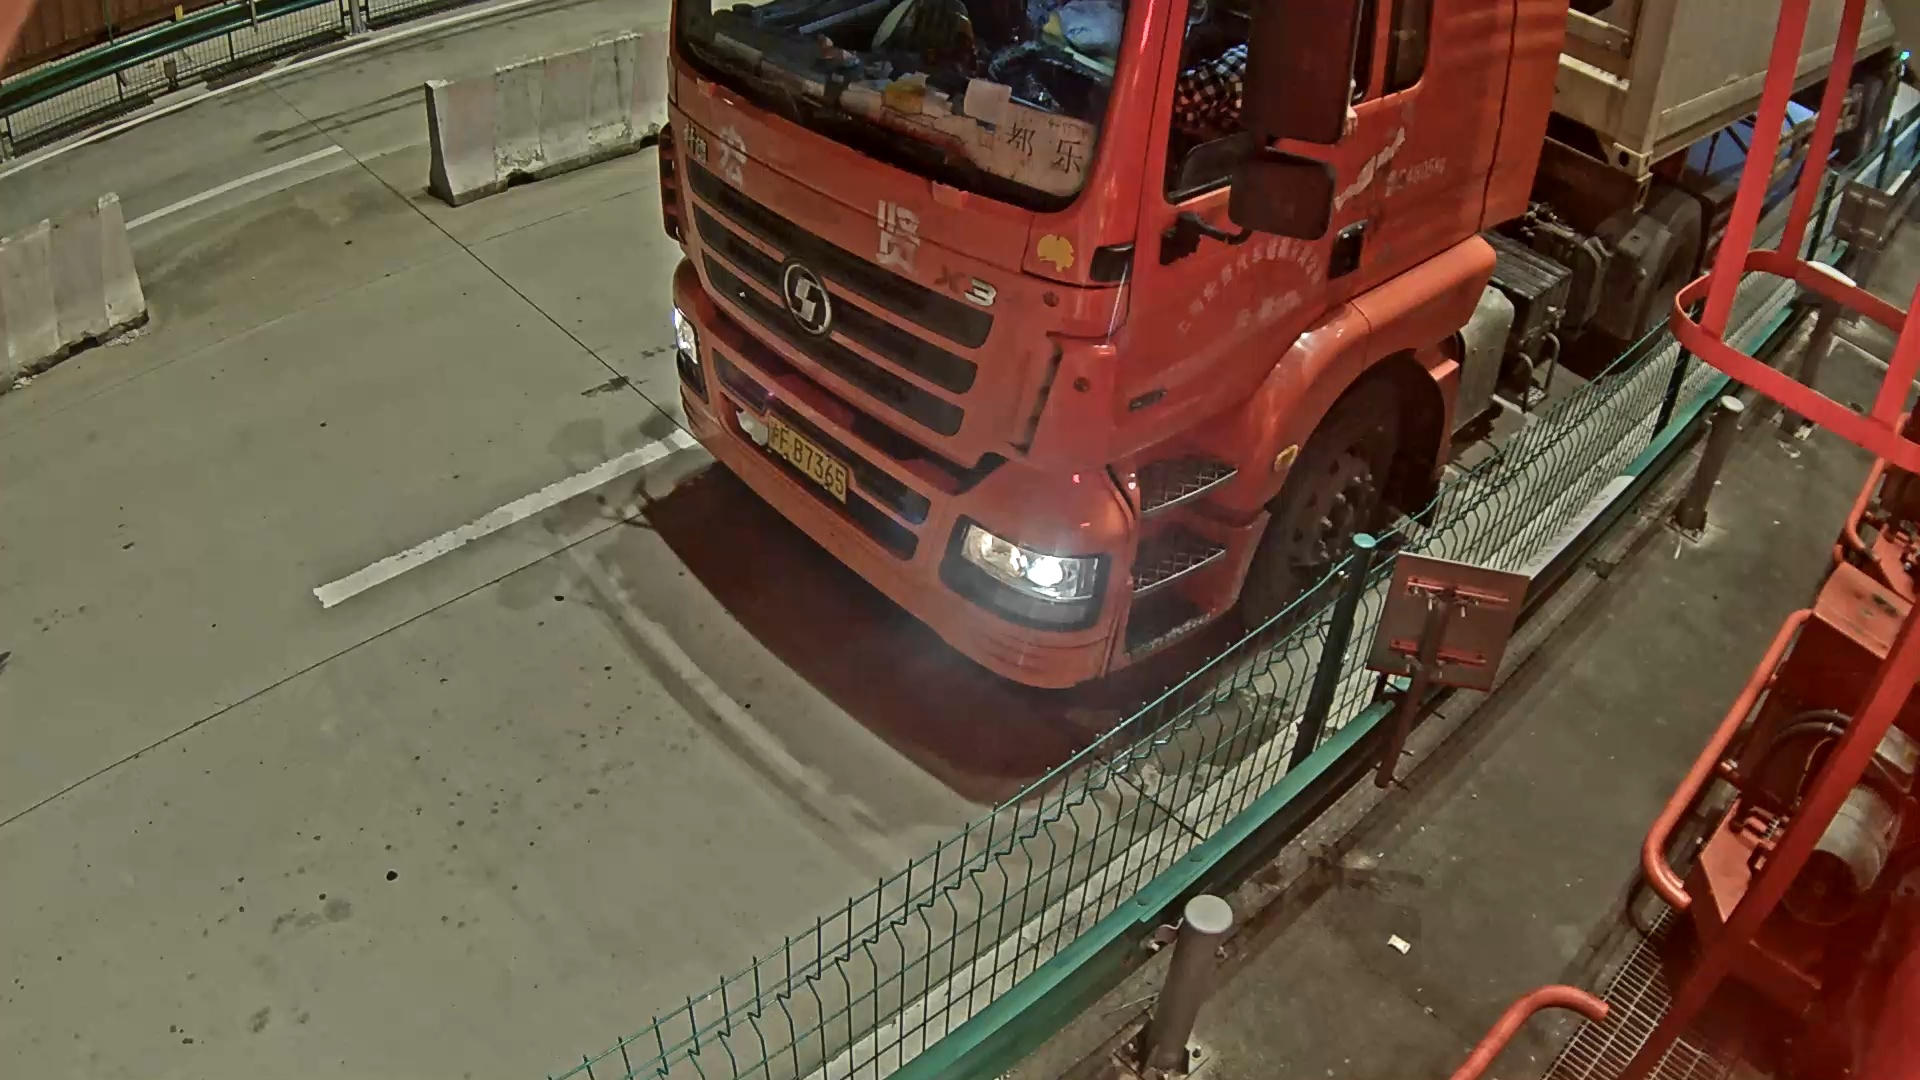head: (670, 1, 1583, 708)
plate: (764, 411, 846, 502)
